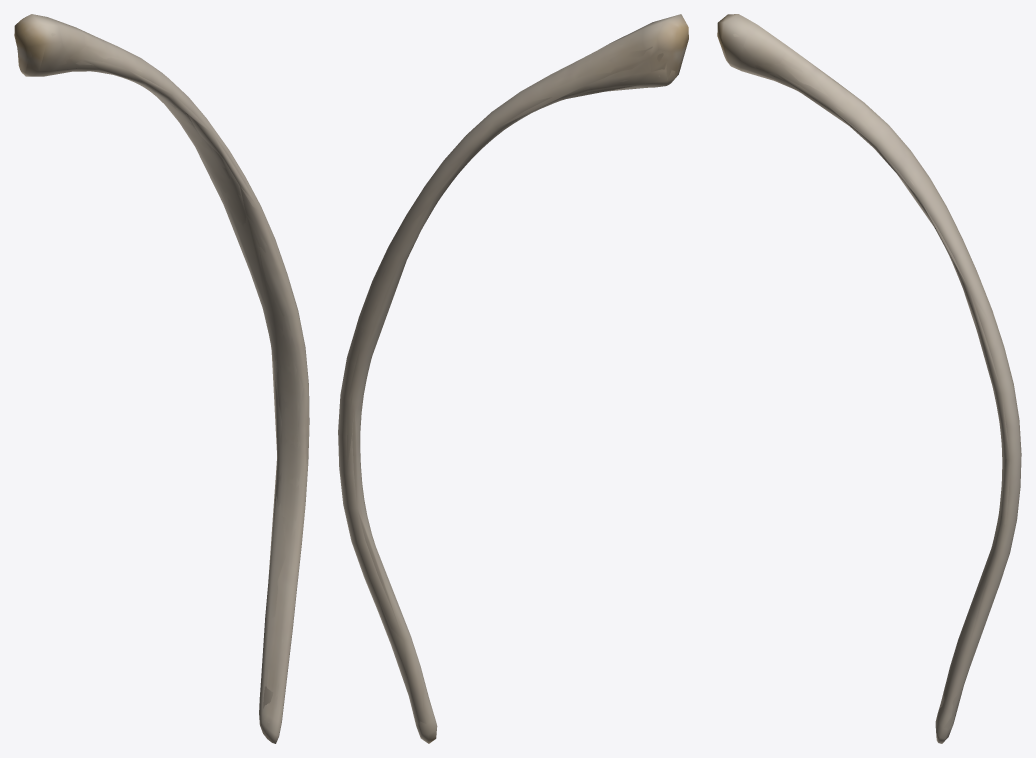
File: Rib L13.fbx
3 renders of one model, left to right at view 1: azimuth 30°, elevation 25°; view 2: azimuth 150°, elevation 25°; view 3: azimuth 330°, elevation 25°, orthographic. The views are drawn at different scales.
Parts seen in each view (by area): view 1: Rib L13, Rib L13 low, Rib L13 high; view 2: Rib L13, Rib L13 low, Rib L13 high; view 3: Rib L13, Rib L13 low, Rib L13 high.
Part boxes in pixels (x1,y1,x2,y2): Rib L13: (14,14,309,743); Rib L13 low: (16,17,309,741); Rib L13 high: (51,33,306,733); Rib L13: (338,14,688,743); Rib L13 low: (339,15,688,726); Rib L13 high: (345,42,671,739); Rib L13: (717,14,1021,743); Rib L13 low: (717,15,1020,739); Rib L13 high: (733,34,1018,733).
Bounding box in the file's own units: 7.06 × 16.72 × 2.14.
Materials: 1 (1 with a texture image).
